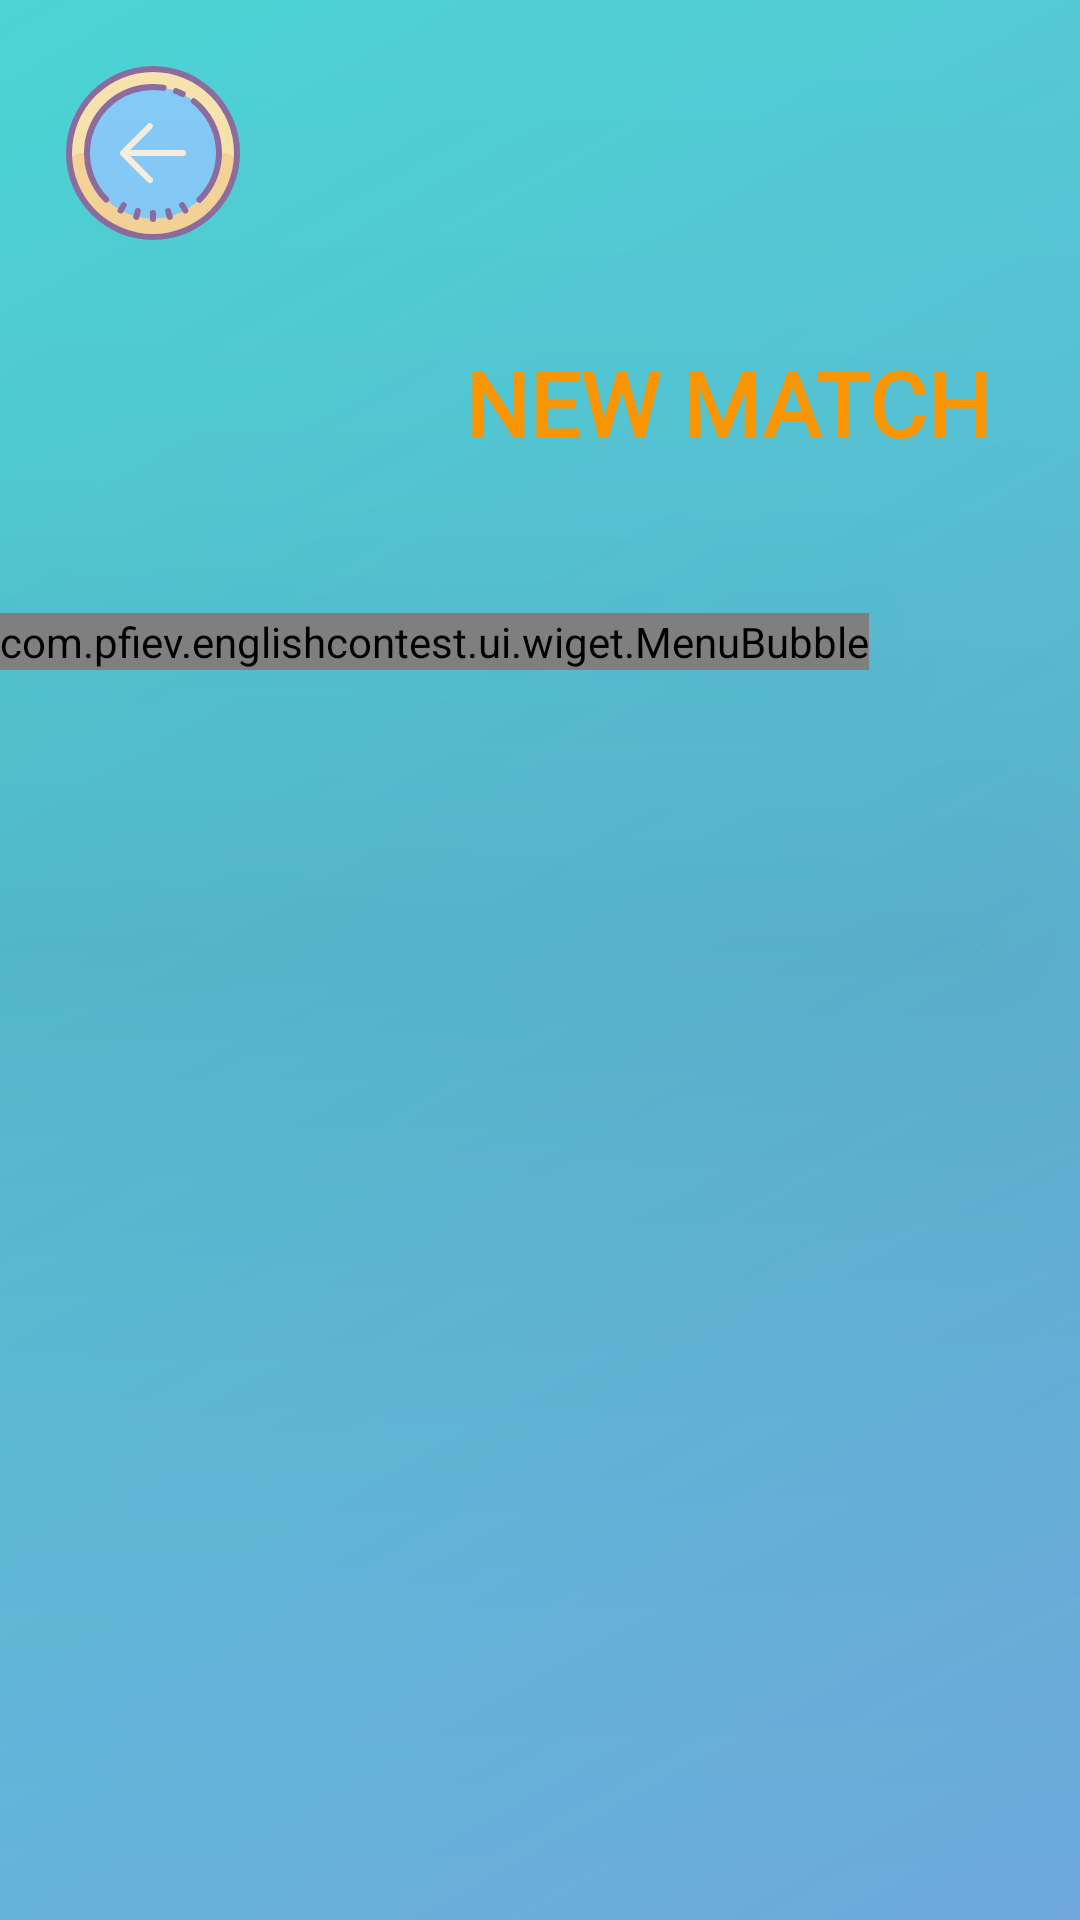

Point at icon controls on the screen. Image size 1080 x 1920, points as (x,y).
Back to main: (153,153)
